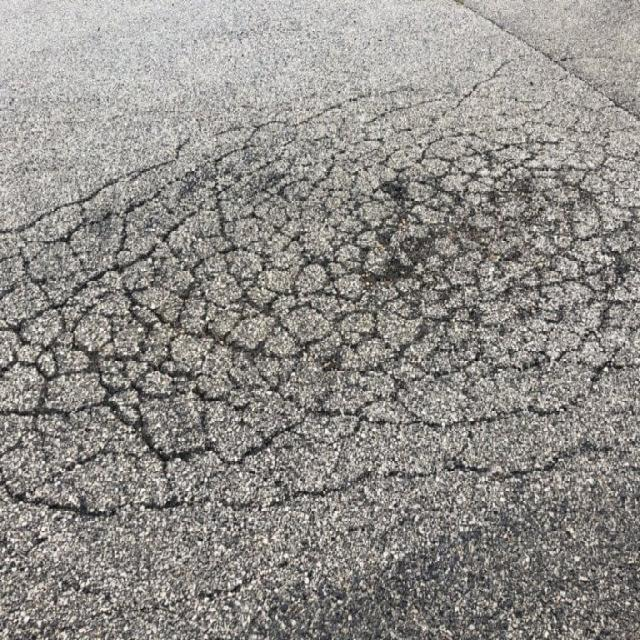Drain Hole: (118, 155, 640, 503)
